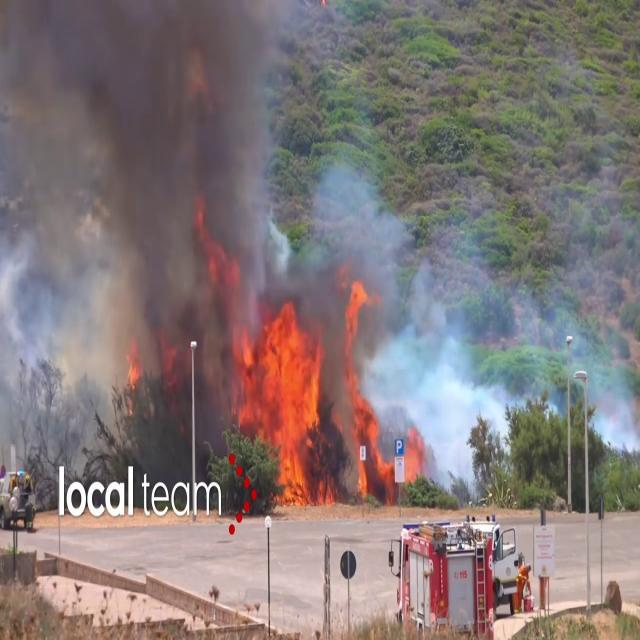Fire: (234, 302, 328, 510)
Smoke: (0, 0, 276, 412), (300, 163, 638, 476)
